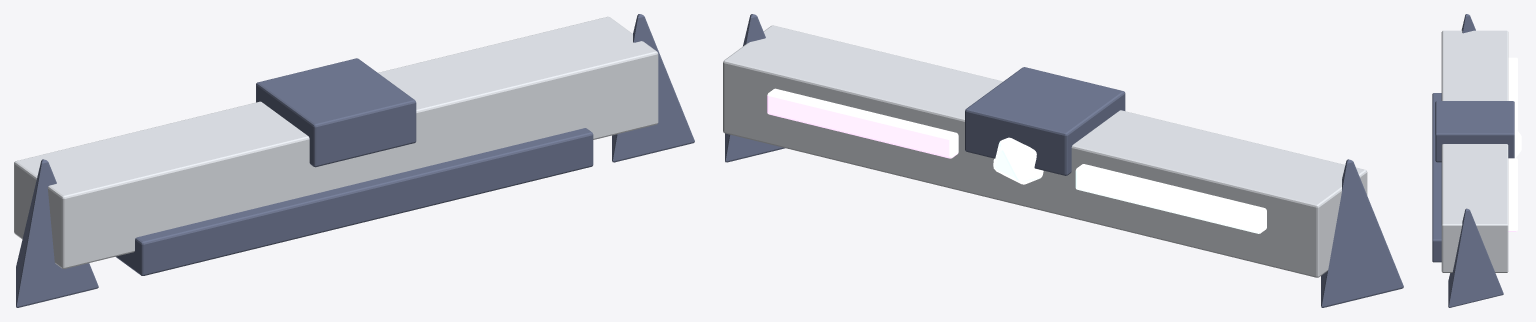
File: paddle.glb
The picture shows the model from 3 angles, left to right: view 1: azimuth 30°, elevation 25°; view 2: azimuth 150°, elevation 25°; view 3: azimuth 270°, elevation 25°; orthographic projection. The views are drawn at different scales.
Visible parts, largest first — view 1: paddle; view 2: paddle; view 3: paddle.
Boxes of the visible parts, x1=… form: paddle: x1=14, y1=14, x2=694, y2=307; paddle: x1=723, y1=14, x2=1403, y2=307; paddle: x1=1432, y1=14, x2=1521, y2=307.
Bounding box in the file's own units: 3.3 × 0.6 × 0.564.
